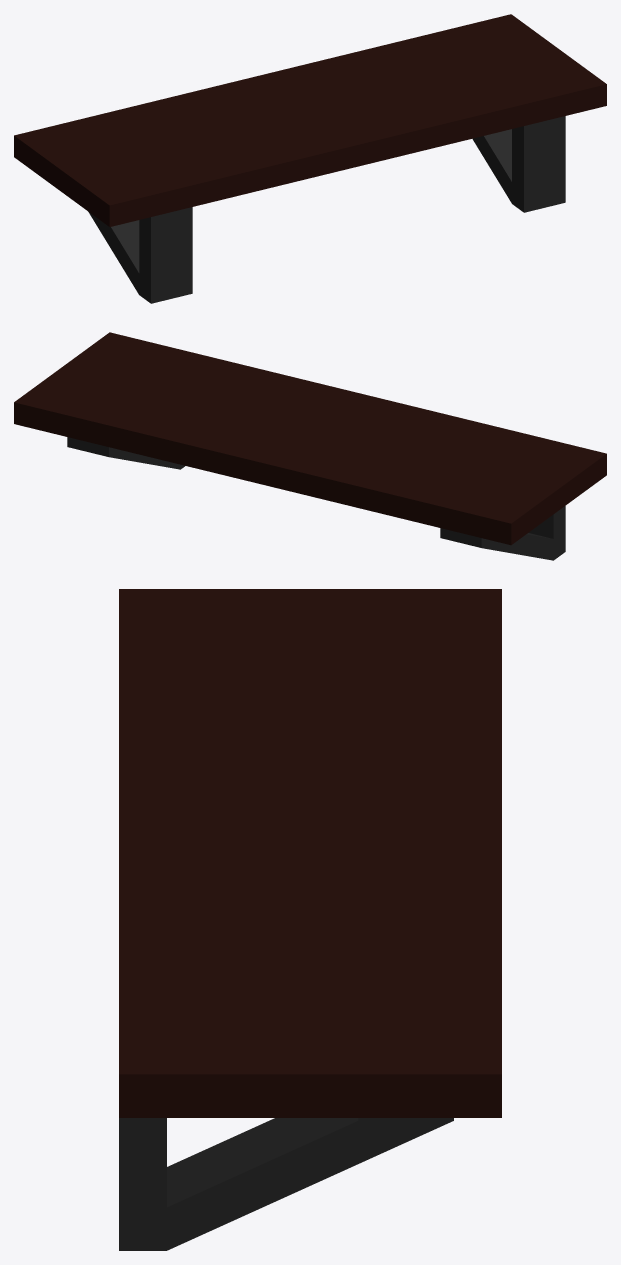
The model's file is estantePared.FBX.
The picture shows the model from 3 angles, top to bottom: view 1: azimuth 30°, elevation 25°; view 2: azimuth 150°, elevation 25°; view 3: azimuth 270°, elevation 25°; orthographic projection. The views are drawn at different scales.
Parts seen in each view (by area): view 1: Cubo; view 2: Cubo; view 3: Cubo.
Part boxes in pixels (<box>): Cubo: <box>14,14,606,303</box>; Cubo: <box>14,332,606,560</box>; Cubo: <box>119,589,501,1250</box>.
Size of the model in its own units: 472 by 98.43 by 157.
